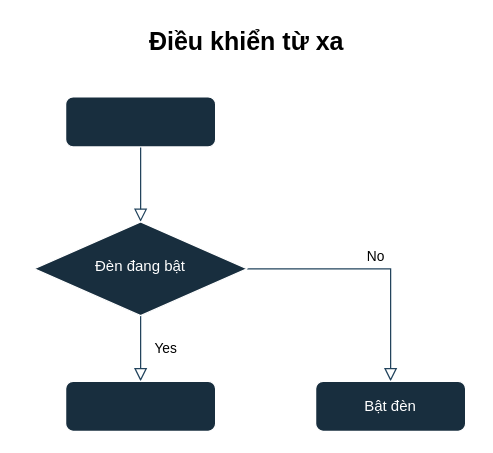
The diagram is 493 pixels wide and 453 high, and some of its shapes have lost their labels. Each missing label, with the centre of its shape:
Người dùng bấm nút bật/tắt: pixel 140 121
Tắt đèn: pixel 140 405
